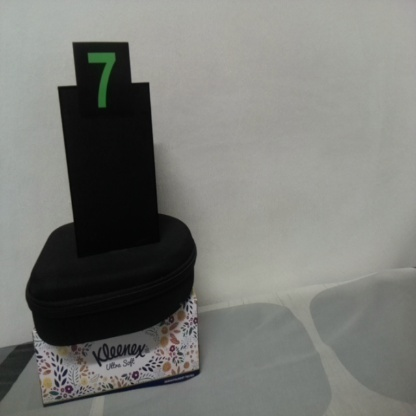id_7: (72, 43, 132, 131)
